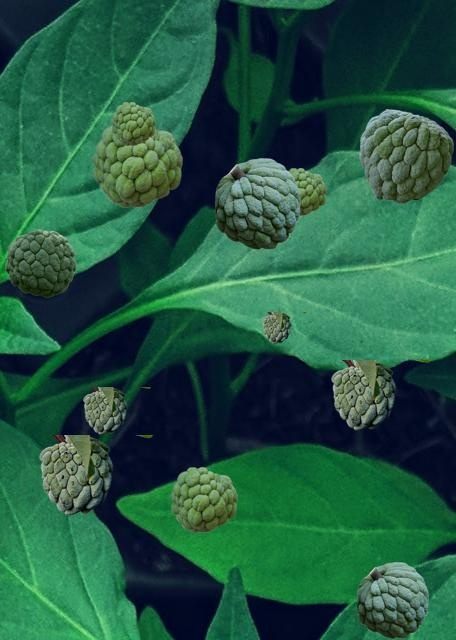atis: (39, 435, 151, 514), (359, 109, 452, 202), (215, 158, 299, 248), (92, 125, 181, 206), (331, 360, 429, 429), (357, 562, 427, 637), (5, 229, 75, 296), (170, 467, 236, 531), (83, 387, 149, 433), (111, 102, 154, 144), (288, 168, 325, 214), (262, 312, 305, 342)
